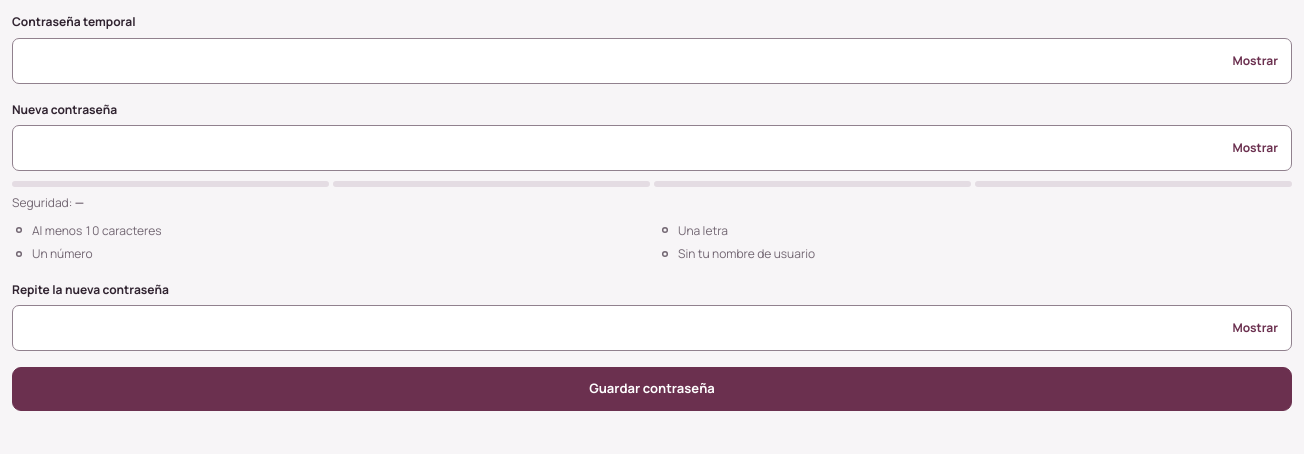
FormularioCambioContrasena › pide repetir la misma contraseña antes de enviarla
Type "Temporal-1" into the password field labelled "Contraseña temporal" at (652, 60), box [12,38,1292,84]
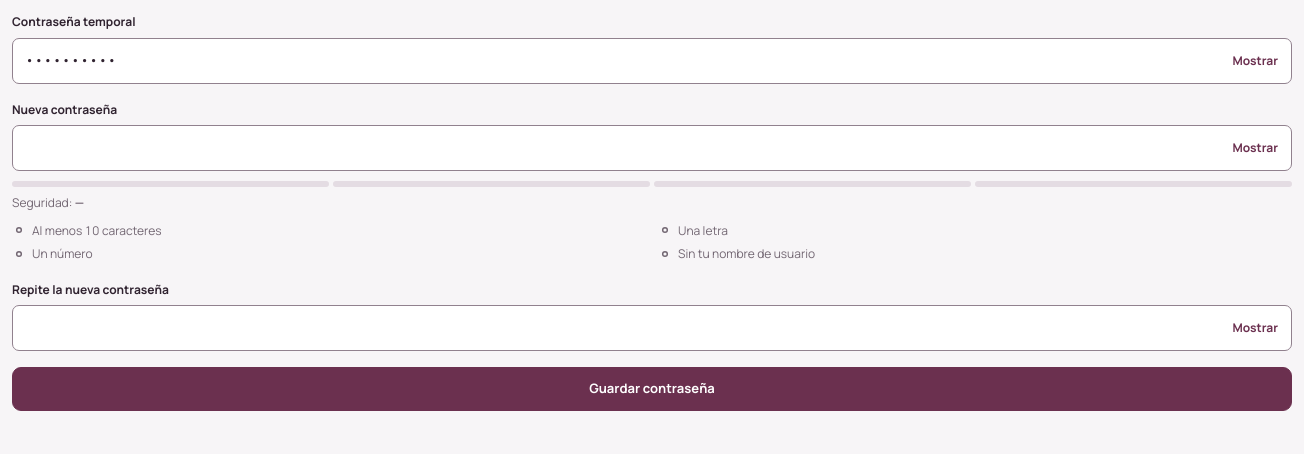
Type "Ciruela-2026" into the password field labelled "Nueva contraseña" at (652, 148), box [12,125,1292,171]
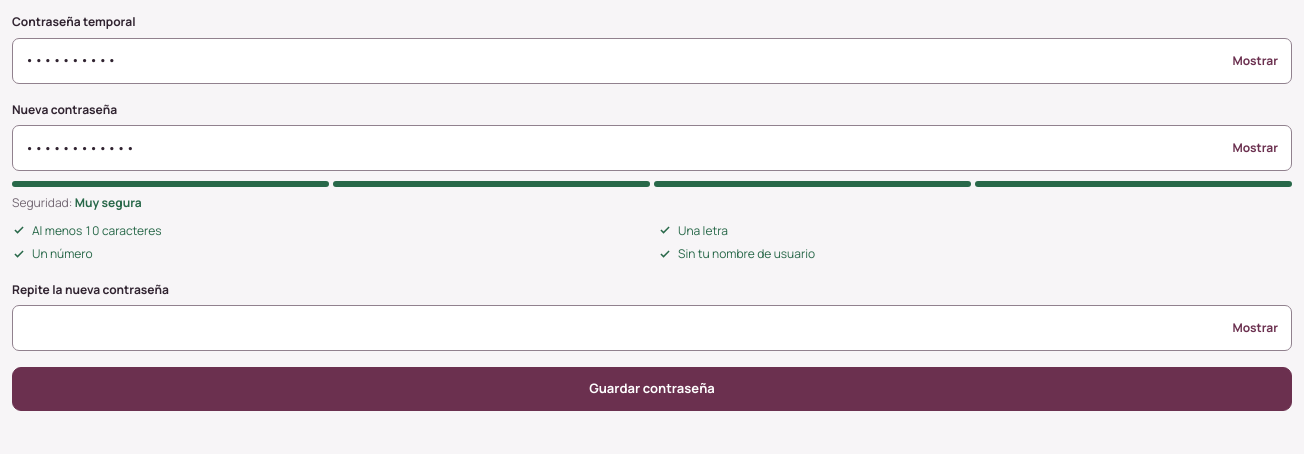
Type "Ciruela-2025" into the password field labelled "Repite la nueva contraseña" at (652, 328), box [12,305,1292,351]
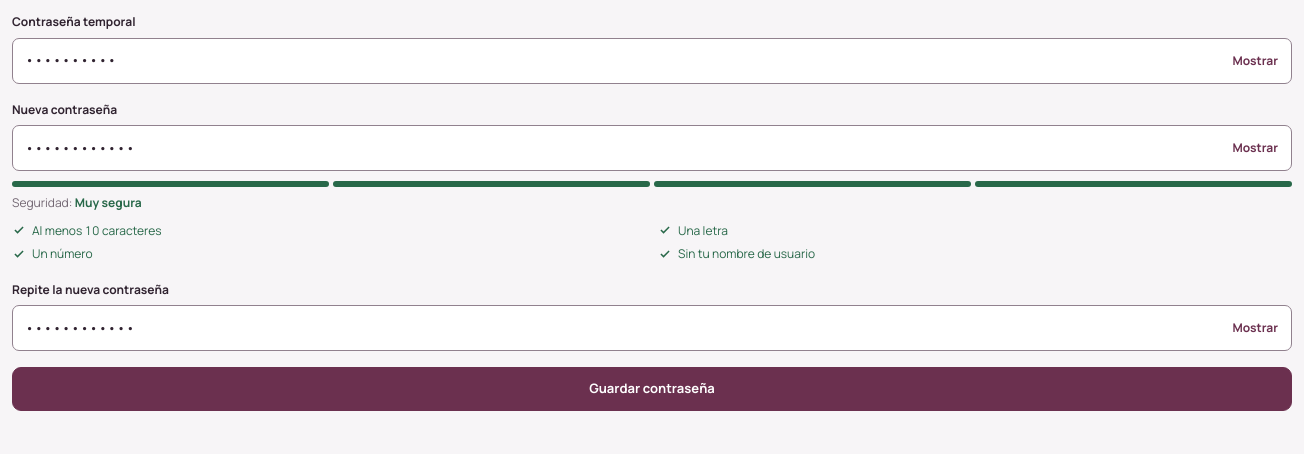
Submit the form
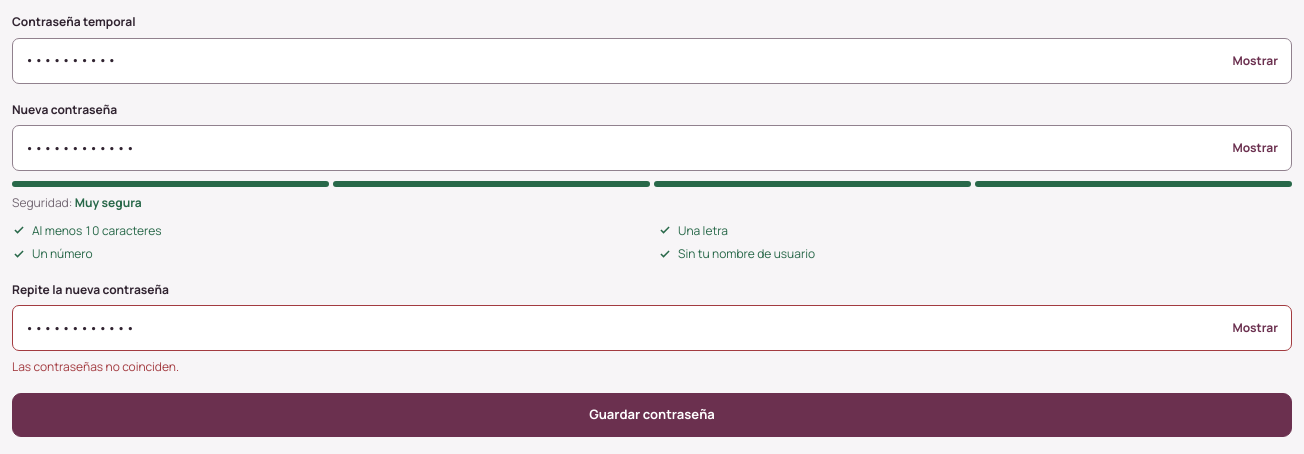
Now the form shows "Las contraseñas no coinciden.", box [12,358,179,375]
